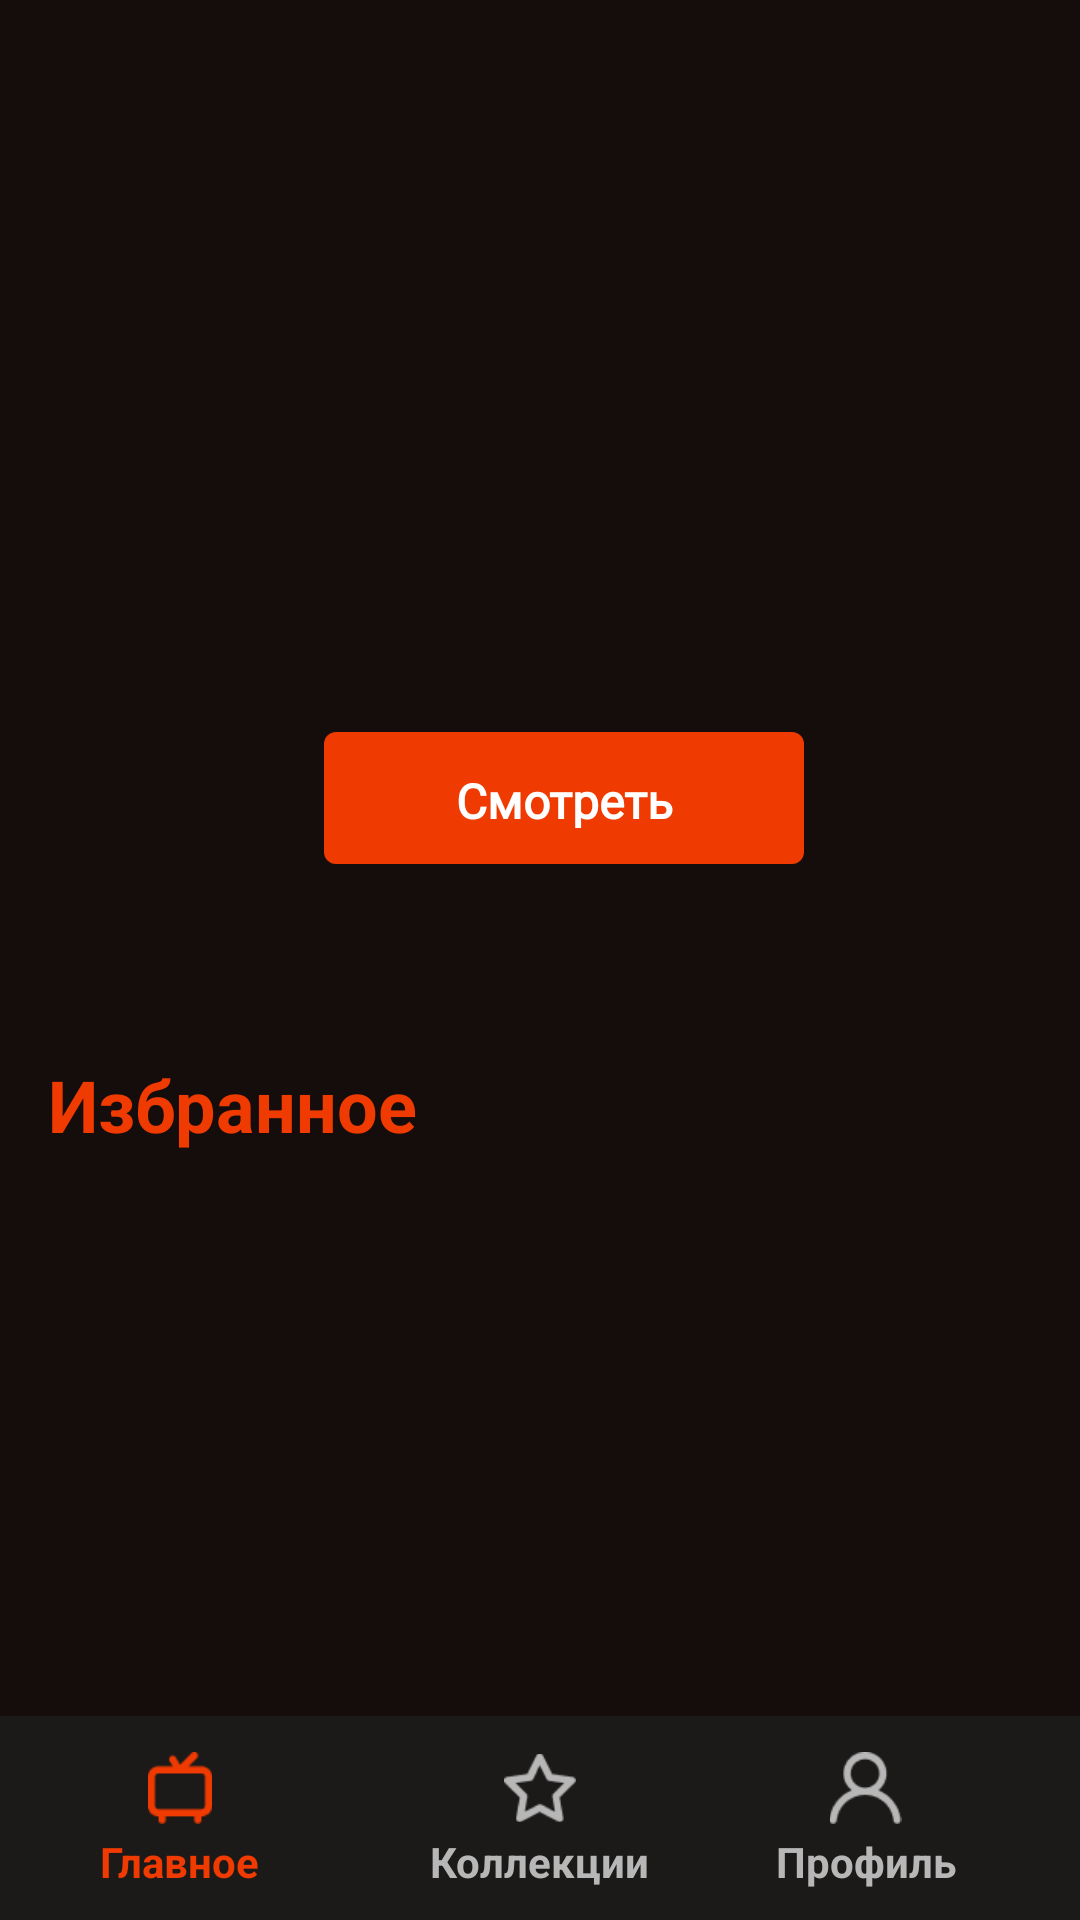

Icons on this 1080w x 1920h Android screen, each with the point to tap as (x=x, y=y):
bottom panel star: (x=540, y=1788)
bottom panel tv: (x=180, y=1788)
